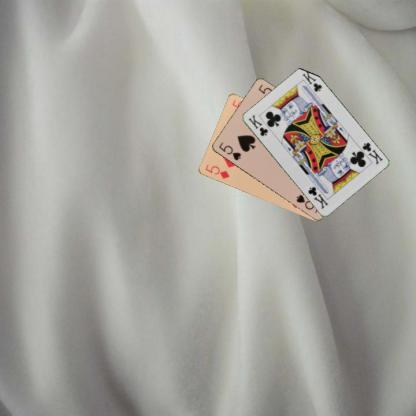5d: (203, 162, 230, 180)
5s: (216, 140, 242, 162)
Kc: (359, 140, 384, 165), (246, 112, 269, 138)
